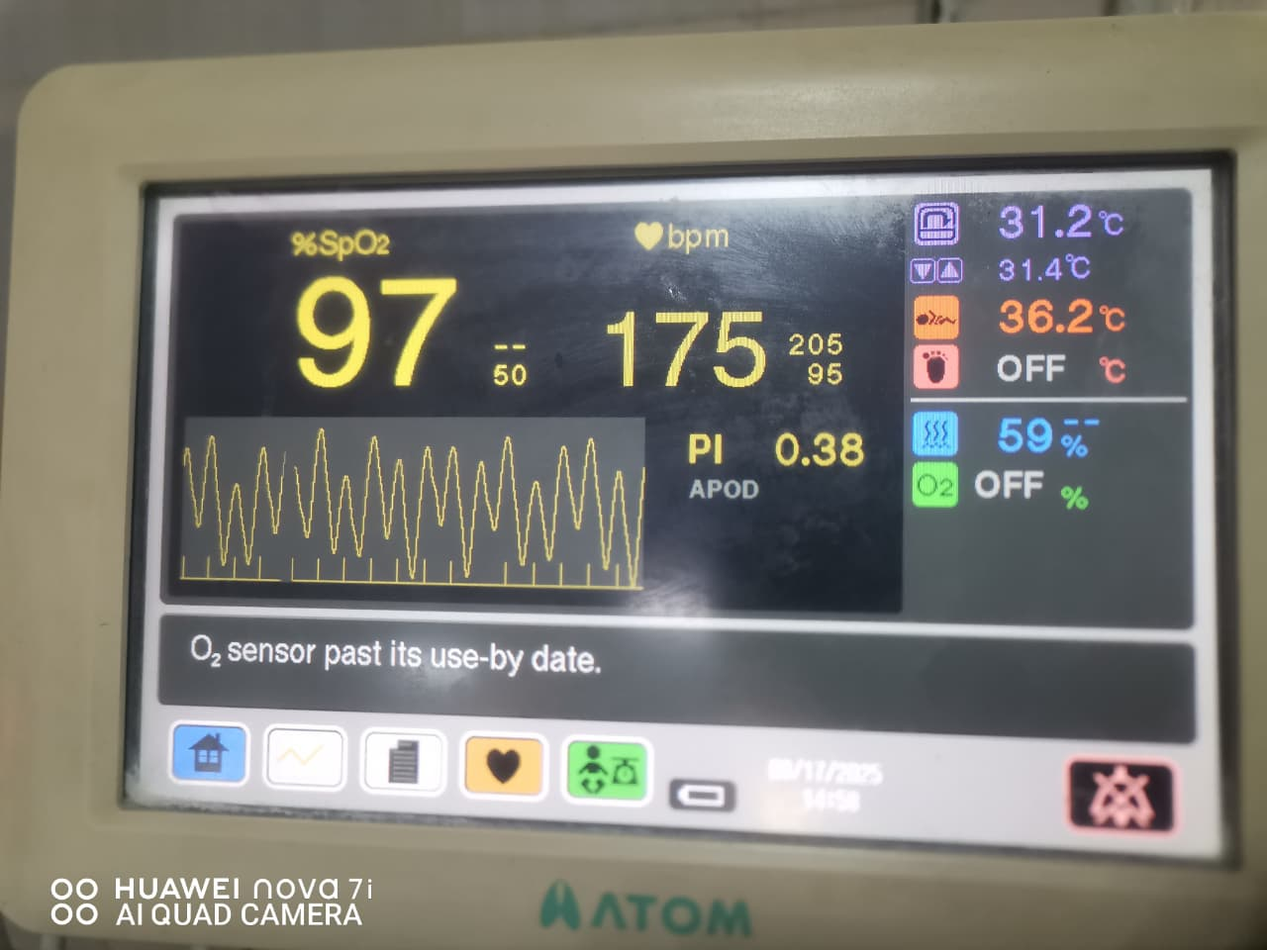air_temp_value: (971, 185, 1100, 254)
heart_rate_value: (585, 294, 779, 397)
humidity_value: (983, 408, 1058, 453)
skin_temp_value: (977, 289, 1097, 348)
spo2_value: (274, 261, 462, 399)
